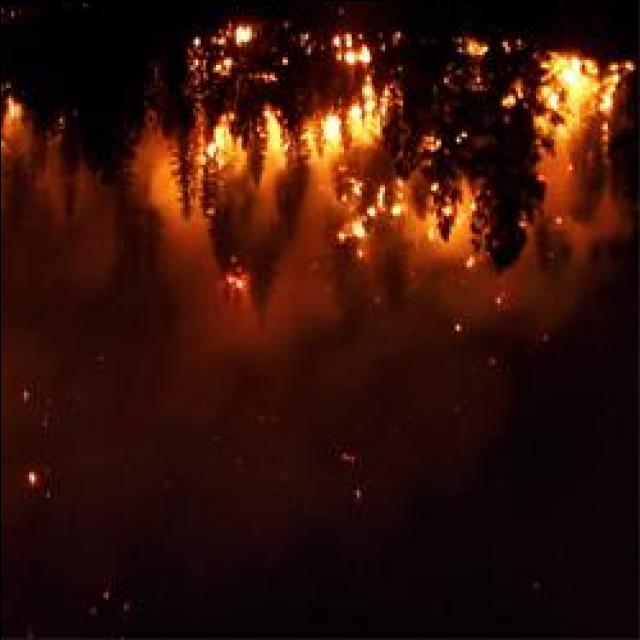fire: (530, 49, 626, 178), (301, 82, 383, 156), (204, 118, 248, 176), (346, 213, 366, 243)
smoke: (181, 305, 309, 388), (129, 115, 184, 227)
